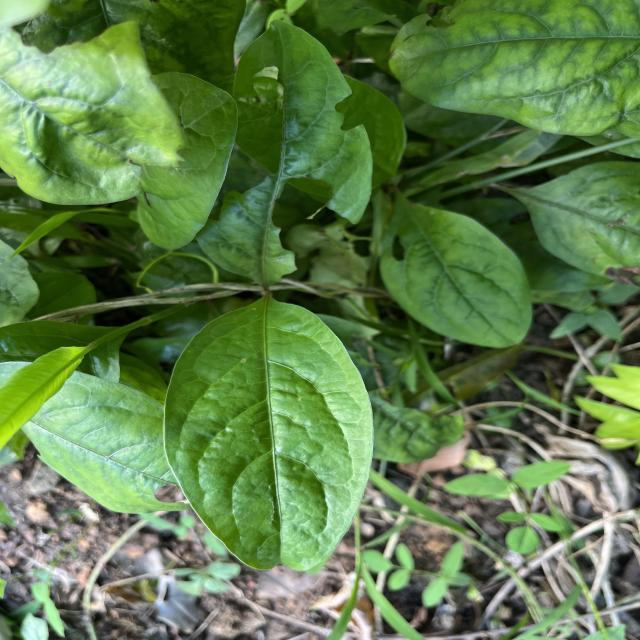Plumbago indica: (160, 294, 378, 579), (383, 0, 640, 140), (371, 200, 538, 350)
